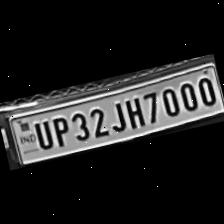0: (155, 84, 181, 119), (192, 73, 218, 108), (175, 78, 200, 113)
2: (84, 104, 110, 140)
3: (66, 107, 92, 144)
7: (138, 88, 162, 124)
H: (119, 92, 146, 130)
J: (104, 98, 126, 134)
P: (46, 112, 74, 148)
U: (30, 116, 54, 151)
